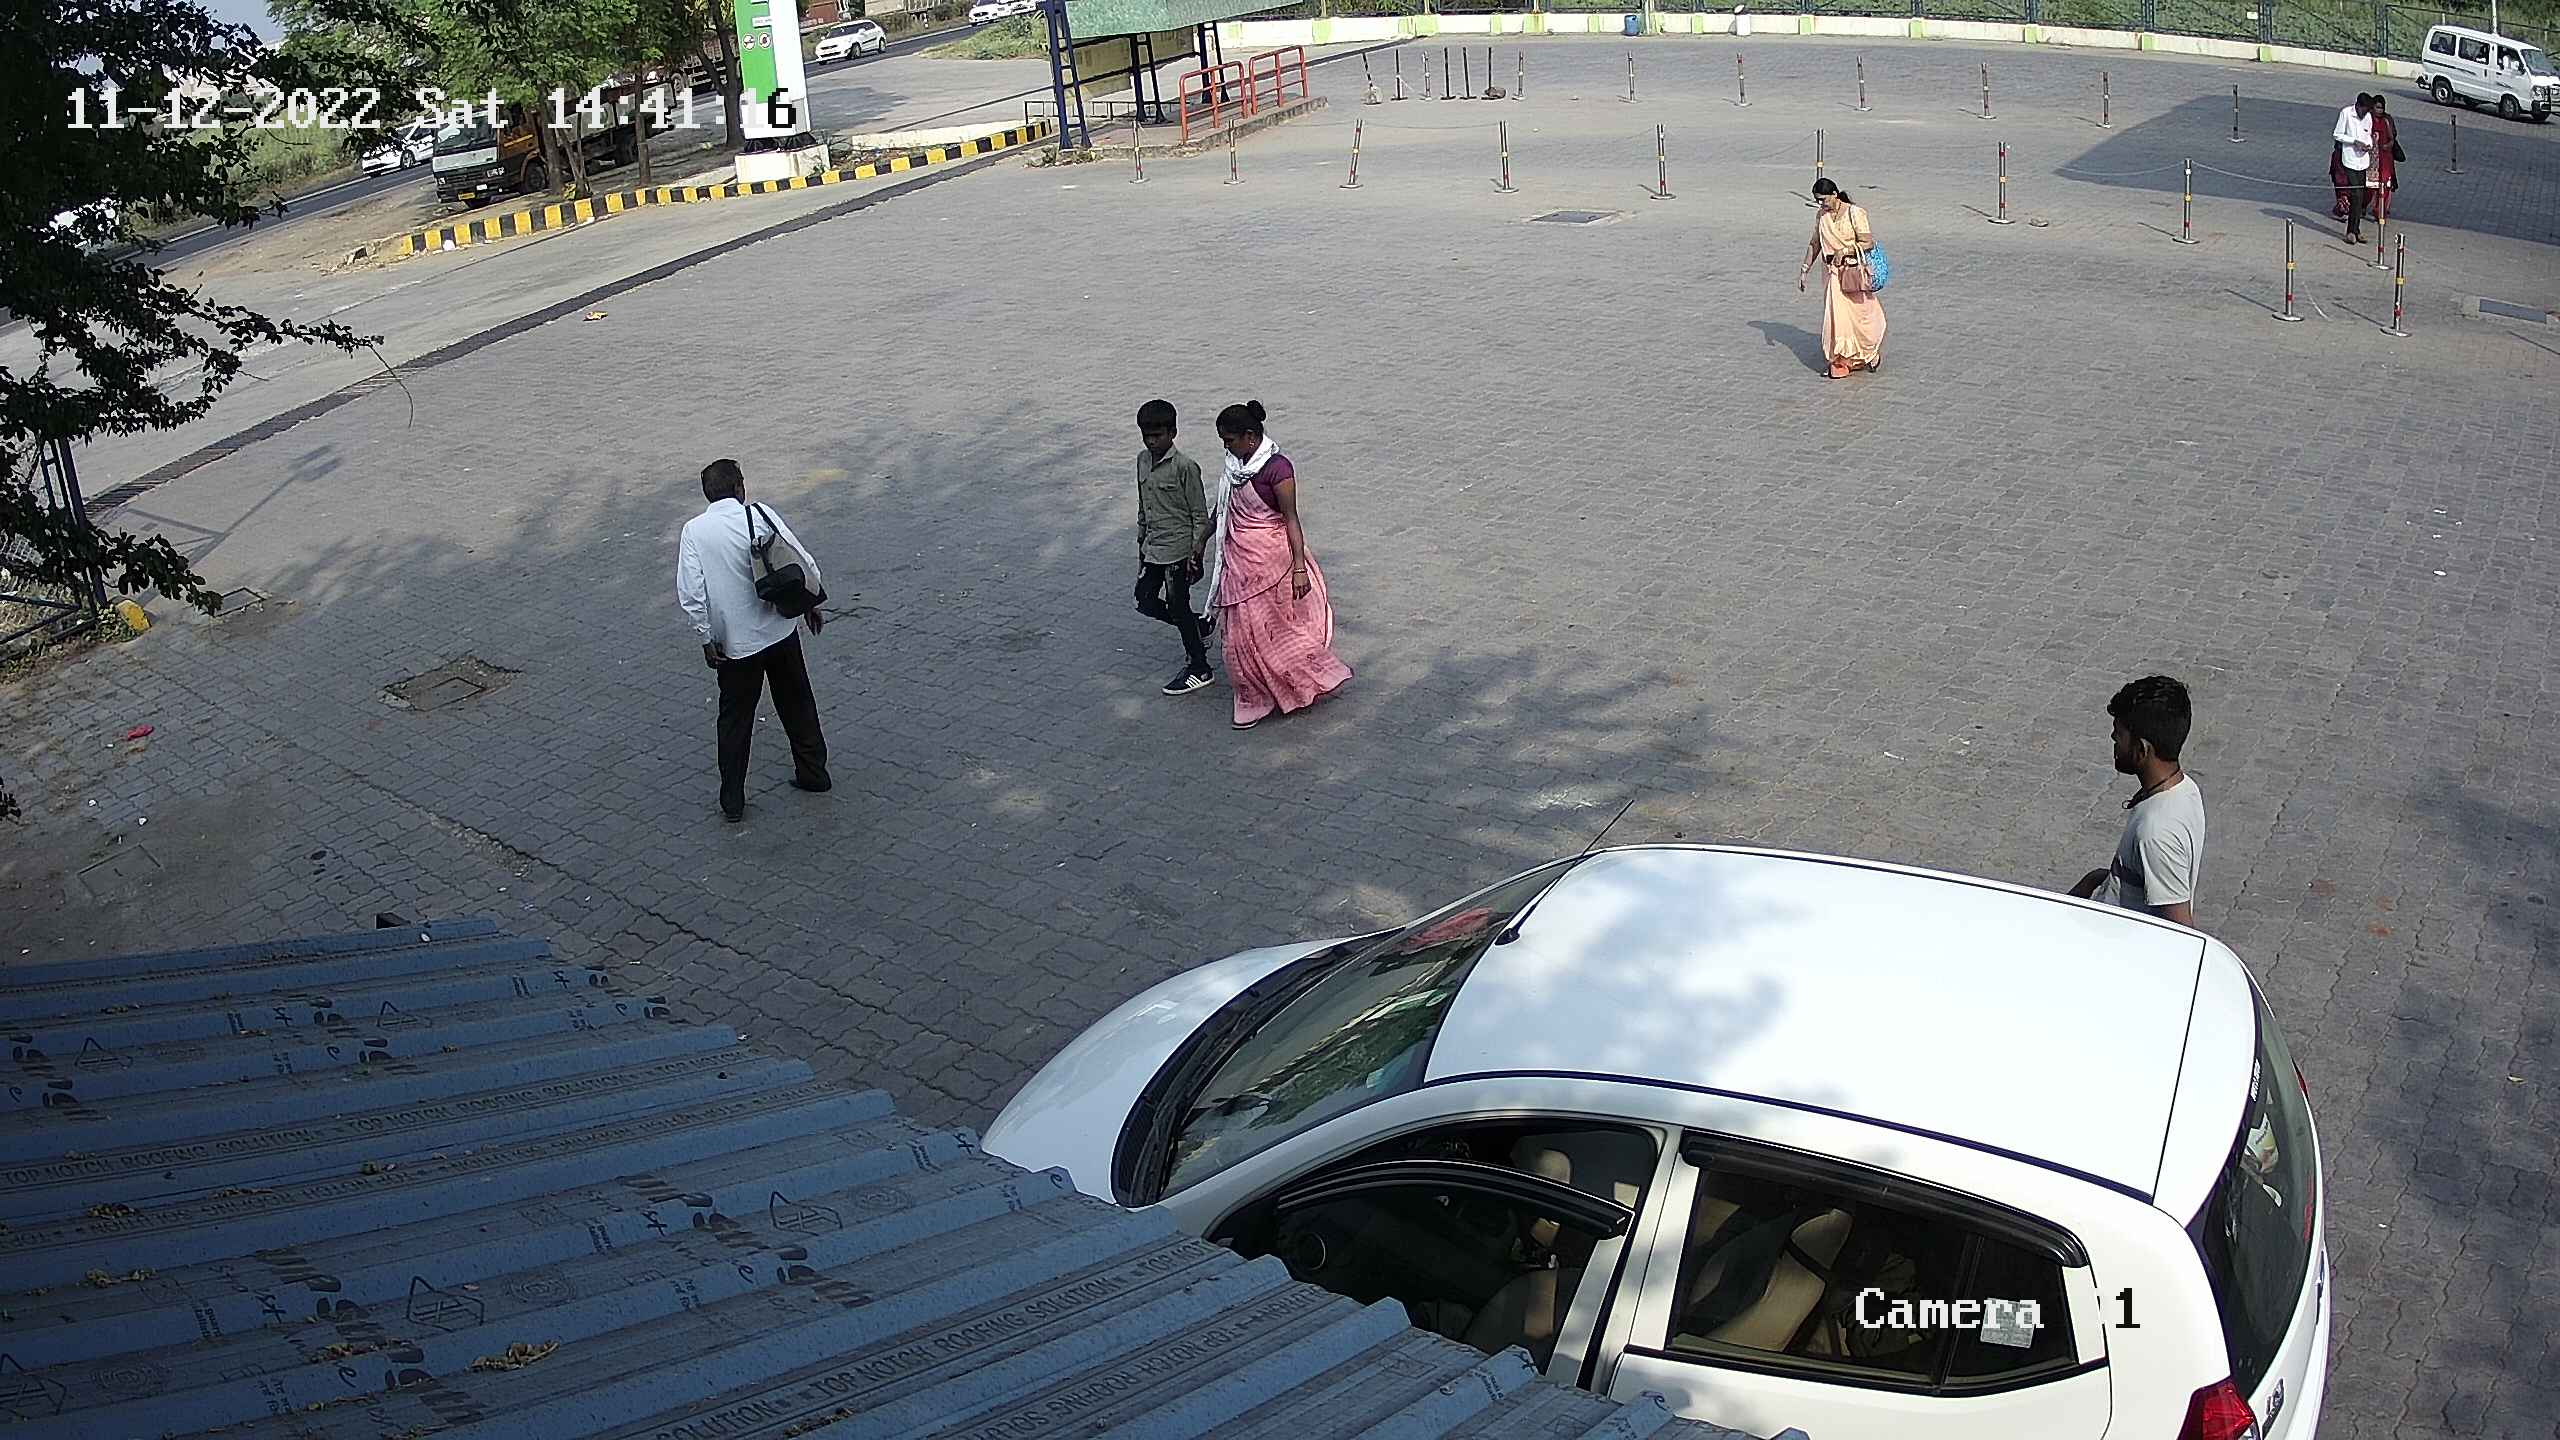Car: (953, 818, 2361, 1435), (2404, 16, 2558, 128), (346, 105, 448, 183), (802, 11, 895, 69), (955, 2, 1050, 33)
HMV: (411, 76, 561, 215)
